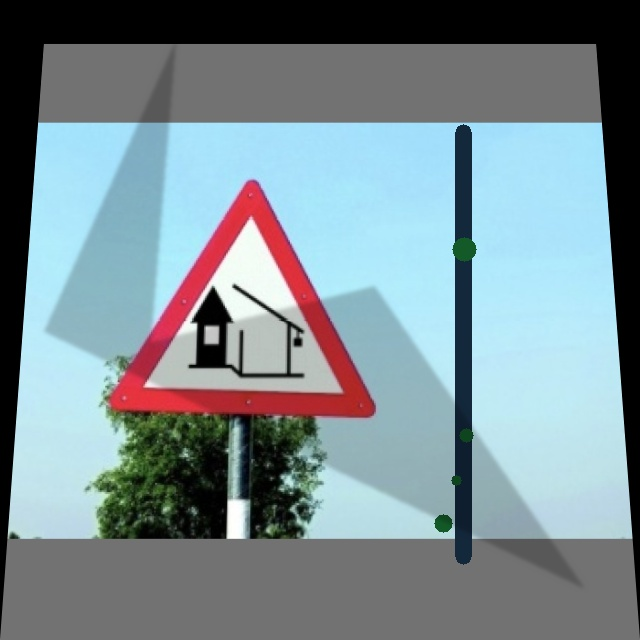Barrier_Ahead: (115, 176, 376, 421)
